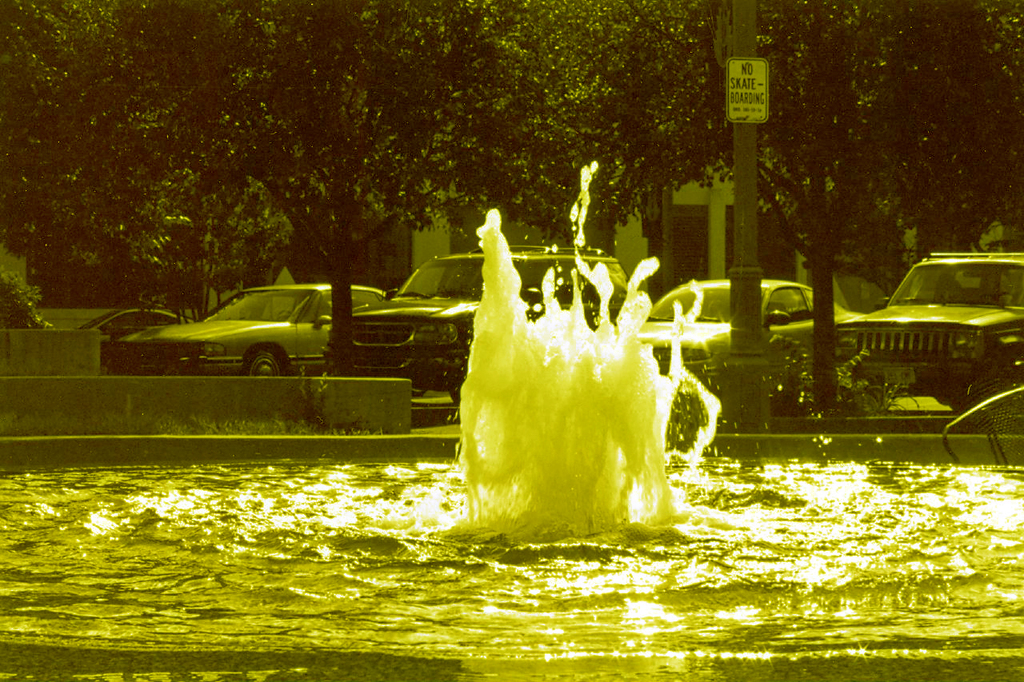Tree: (0, 0, 1023, 414), (464, 0, 1023, 416), (138, 0, 624, 378), (0, 0, 416, 337), (0, 0, 179, 296)
